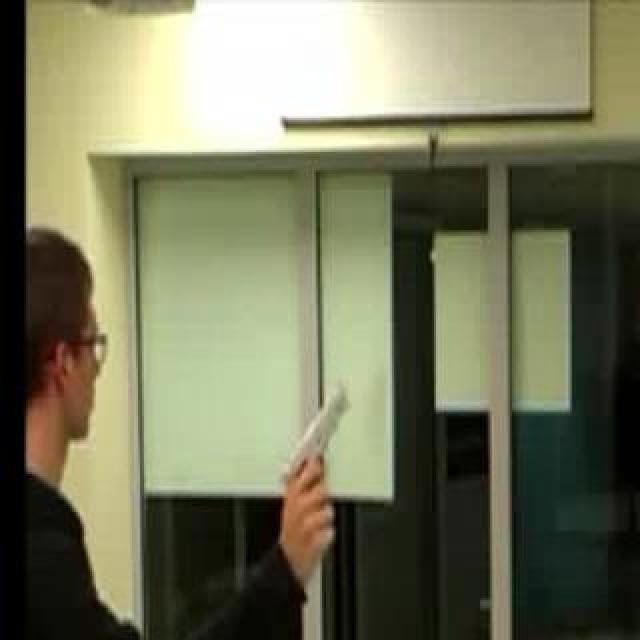Guns: (272, 378, 353, 516)
